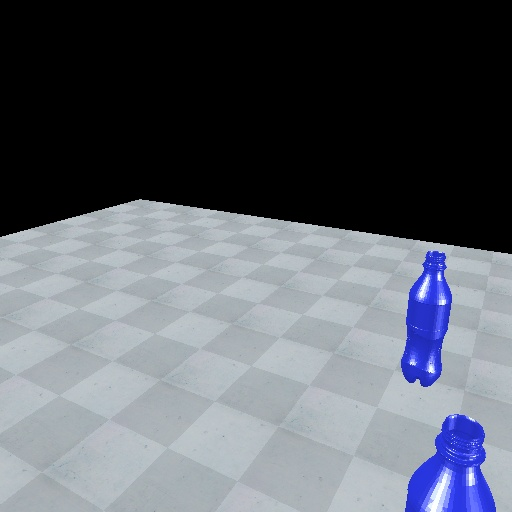bottle: (400, 249, 455, 390)
